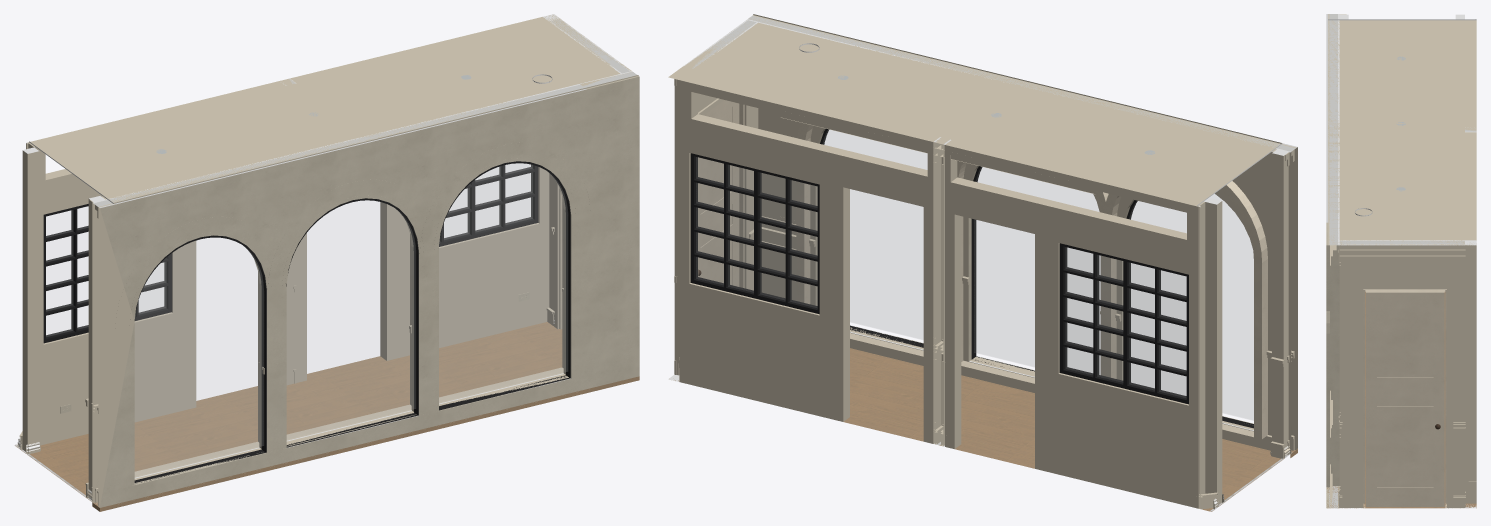
Rendered from office-hall-29f37b354128.glb.
3 renders of one model, left to right at view 1: azimuth 30°, elevation 25°; view 2: azimuth 150°, elevation 25°; view 3: azimuth 270°, elevation 25°, orthographic. The views are drawn at different scales.
Visible parts, largest first — view 1: office-hall-c9e78b9ec1bb39cd, office-hall-dbd60ee5c3733ed6, office-hall-5cbcc744e6f960f3, office-hall-c02a36d0521470a9, office-hall-38561c12898e4d43, office-hall-c374268555806af8, office-hall-7dc307bfa7ee071d, office-hall-a822d30aa9e2c55a, office-hall-93447d0fea18c81b, office-hall-30c11a1e1f11b96f, office-hall-7b82ff44d03bcf83, office-hall-bc466264917d70e2 (+12 smaller); view 2: office-hall-dbd60ee5c3733ed6, office-hall-a822d30aa9e2c55a, office-hall-7dc307bfa7ee071d, office-hall-c374268555806af8, office-hall-c9e78b9ec1bb39cd, office-hall-c02a36d0521470a9, office-hall-38561c12898e4d43, office-hall-5cbcc744e6f960f3, office-hall-bc466264917d70e2, office-hall-7b82ff44d03bcf83, office-hall-30c11a1e1f11b96f, office-hall-1109284a531c9f8c (+29 smaller); view 3: office-hall-dbd60ee5c3733ed6, office-hall-cf6d22c5317ced0b, office-hall-68d06b361ac47823, office-hall-c9e78b9ec1bb39cd, office-hall-7dc307bfa7ee071d, office-hall-8cbce1d8f2f8a576, office-hall-a822d30aa9e2c55a, office-hall-c374268555806af8, office-hall-93697f08ebd08859, office-hall-93447d0fea18c81b, office-hall-b08c724f11ced4fa.
Boxes of the visible parts, x1,y1,x2,y2 form: office-hall-c9e78b9ec1bb39cd: (92,84,586,507); office-hall-dbd60ee5c3733ed6: (29,14,638,203); office-hall-5cbcc744e6f960f3: (439,163,567,402); office-hall-c02a36d0521470a9: (287,200,415,439); office-hall-38561c12898e4d43: (135,238,263,476); office-hall-c374268555806af8: (15,322,639,511); office-hall-7dc307bfa7ee071d: (291,17,549,382); office-hall-a822d30aa9e2c55a: (27,82,285,445); office-hall-93447d0fea18c81b: (580,71,639,388); office-hall-30c11a1e1f11b96f: (22,147,39,451); office-hall-7b82ff44d03bcf83: (46,207,165,336); office-hall-bc466264917d70e2: (444,164,532,239); office-hall-dbd60ee5c3733ed6: (668,14,1282,205); office-hall-a822d30aa9e2c55a: (945,140,1205,508); office-hall-7dc307bfa7ee071d: (679,80,939,443); office-hall-c374268555806af8: (675,348,1297,511); office-hall-c9e78b9ec1bb39cd: (799,28,1297,453); office-hall-c02a36d0521470a9: (974,167,1098,372); office-hall-38561c12898e4d43: (1129,194,1253,420); office-hall-5cbcc744e6f960f3: (823,129,927,339); office-hall-bc466264917d70e2: (696,157,817,307); office-hall-7b82ff44d03bcf83: (1066,247,1186,397); office-hall-30c11a1e1f11b96f: (1205,198,1222,504); office-hall-1109284a531c9f8c: (1102,181,1267,438); office-hall-dbd60ee5c3733ed6: (1328,19,1476,245); office-hall-cf6d22c5317ced0b: (1366,291,1444,506); office-hall-68d06b361ac47823: (1339,240,1464,508); office-hall-c9e78b9ec1bb39cd: (1326,14,1339,485); office-hall-7dc307bfa7ee071d: (1465,132,1476,491); office-hall-8cbce1d8f2f8a576: (1363,289,1446,508); office-hall-a822d30aa9e2c55a: (1465,20,1476,127); office-hall-c374268555806af8: (1327,291,1476,508); office-hall-93697f08ebd08859: (1326,311,1329,487); office-hall-93447d0fea18c81b: (1326,222,1339,508); office-hall-b08c724f11ced4fa: (1340,245,1465,256).
Size of the model in its own units: 5.65 by 3.05 by 1.55.
19 materials, 5 textured.
